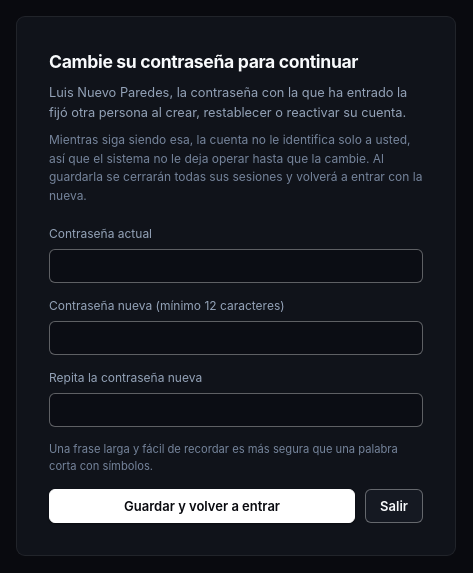
Test: con la contraseña que le fijó otra persona › al cambiarla, cierra la sesión local y vuelve a la entrada diciendo por qué
The image size is (473, 573).
In the password field labelled "Contraseña actual": (236, 266) [49, 249, 423, 283], type "Prestada-Inicial-2026"
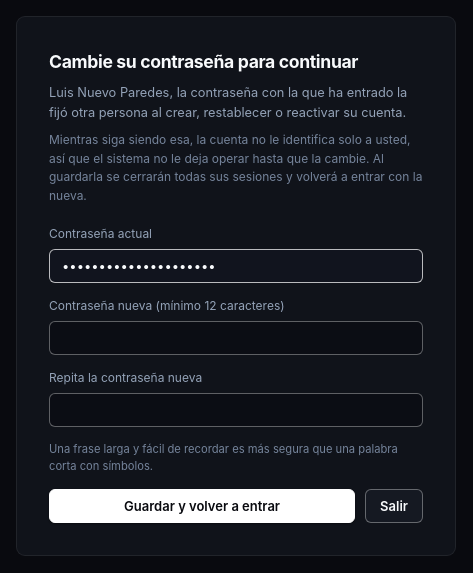
In the password field labelled "Contraseña nueva (mínimo 12 caracteres)": (236, 338) [49, 321, 423, 355], type "Mi-Frase-Propia-Y-Larga"
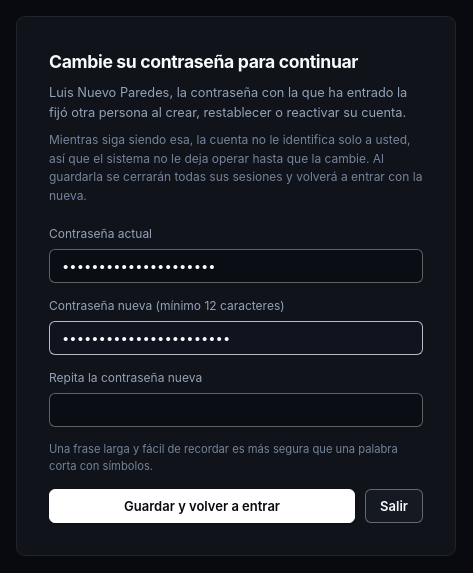
In the password field labelled "Repita la contraseña nueva": (236, 410) [49, 393, 423, 427], type "Mi-Frase-Propia-Y-Larga"
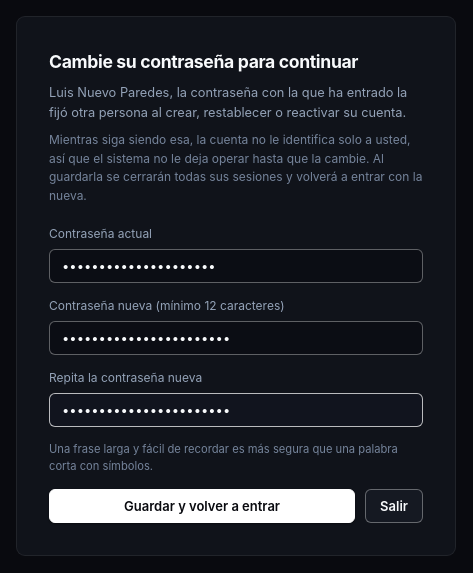
Click the button "Guardar y volver a entrar": (202, 506) [49, 489, 355, 523]
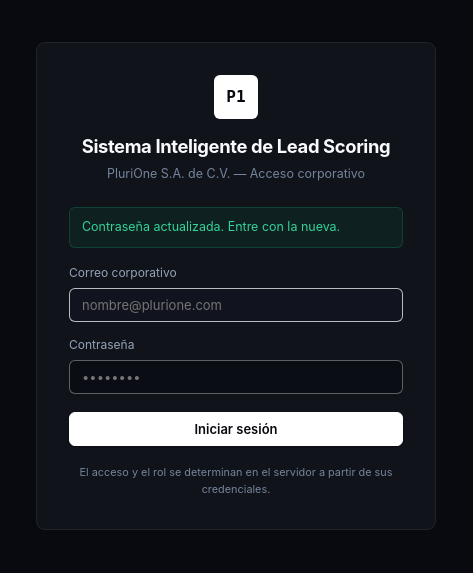
expect the message shows "Entre con la nueva": met, box [82, 219, 340, 234]
